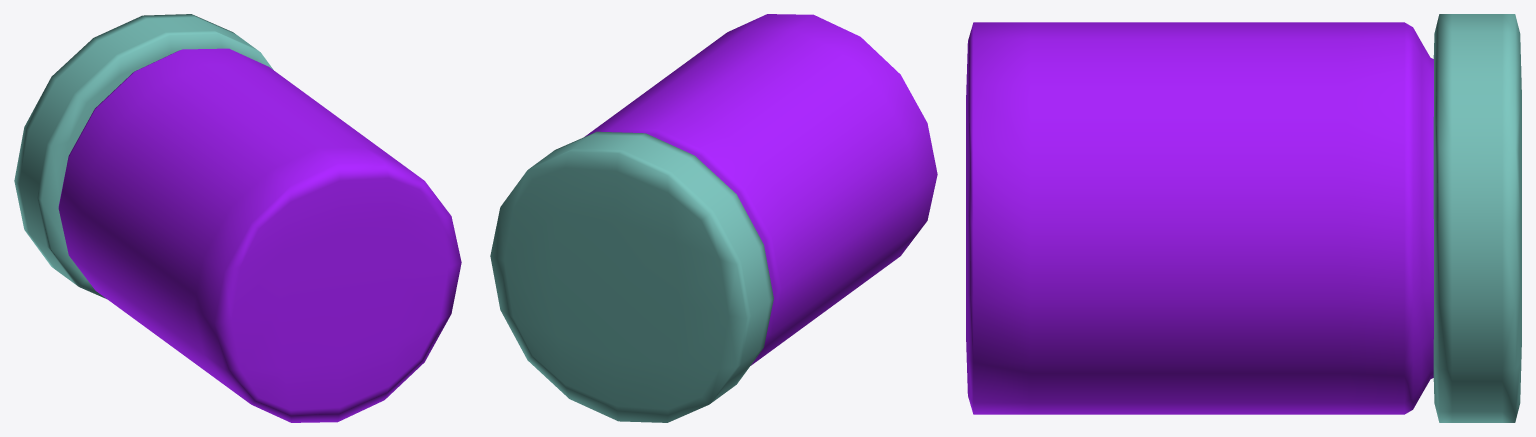
Rendered from Jam Pickup.glb.
3 views of the same model, side by side, from view 1: azimuth 30°, elevation 25°; view 2: azimuth 150°, elevation 25°; view 3: azimuth 270°, elevation 25° (orthographic). The views are drawn at different scales.
Visible parts, largest first — view 1: pCube1, PeanutButterJar_geo1.001; view 2: PeanutButterJar_geo1.001, pCube1; view 3: pCube1, PeanutButterJar_geo1.001.
Part boxes in pixels (<box>): pCube1: <box>58,48,461,422</box>; PeanutButterJar_geo1.001: <box>14,14,273,298</box>; PeanutButterJar_geo1.001: <box>490,131,773,422</box>; pCube1: <box>584,14,937,365</box>; pCube1: <box>966,22,1433,414</box>; PeanutButterJar_geo1.001: <box>1433,14,1521,422</box>.
Size of the model in its own units: 0.9576 by 0.9576 by 1.3.
